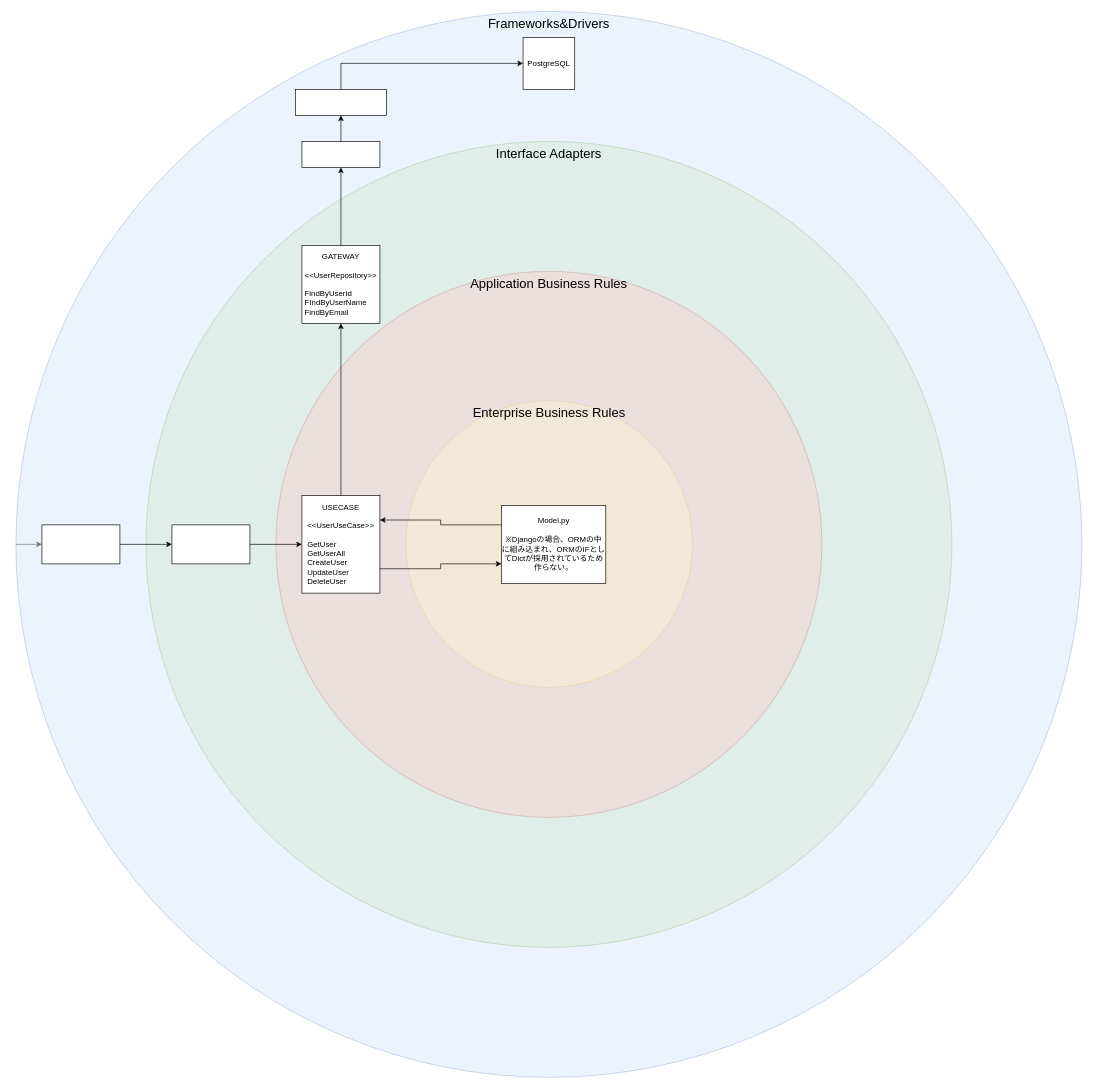
The diagram is 1093 pixels wide and 1089 high, and some of its shapes have lost their labels. The shapes that lost their labels are listed below. From the top down, each one's centre as x and y in pixels, then its label:
At (x=340, y=102): "django.db.models.Model (ORM)".
At (x=340, y=154): "Django serializer.py".
At (x=80, y=544): "Django".
At (x=210, y=544): "CONTROLLERS django.view.py".
